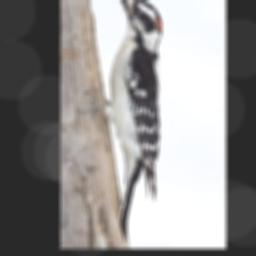Woodpecker: (75, 0, 164, 242)
